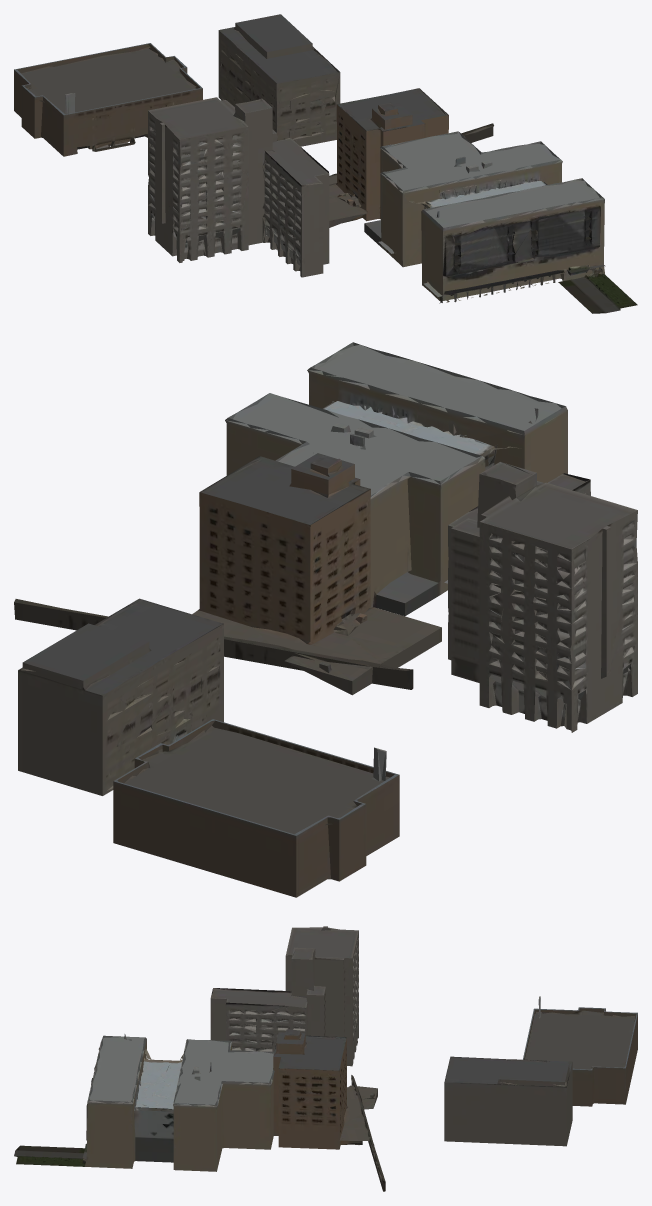
File: t_1_-2.coat.glb
The picture shows the model from 3 angles, top to bottom: view 1: azimuth 30°, elevation 25°; view 2: azimuth 150°, elevation 25°; view 3: azimuth 270°, elevation 25°; orthographic projection. The views are drawn at different scales.
Visible parts, largest first — view 1: far; view 2: far; view 3: far.
Boxes of the visible parts, box(x1,y1,x2,y2) form: far: box(14, 14, 637, 313); far: box(14, 342, 637, 897); far: box(14, 926, 637, 1191).
Size of the model in its own units: 194 by 68.25 by 327.
1 material, 1 textured.
